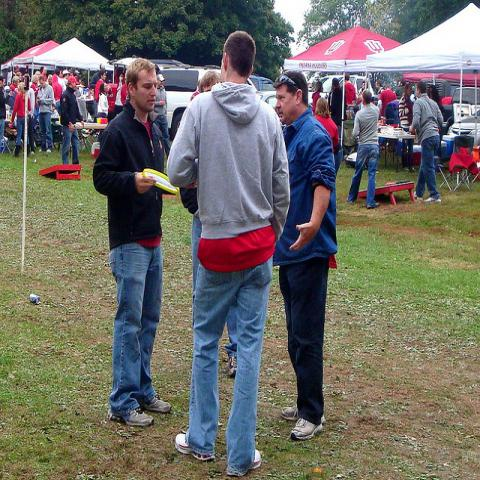car: (156, 68, 221, 141), (447, 117, 480, 144), (249, 74, 276, 90), (259, 90, 277, 110), (350, 76, 364, 96)
truck: (441, 88, 480, 134)
